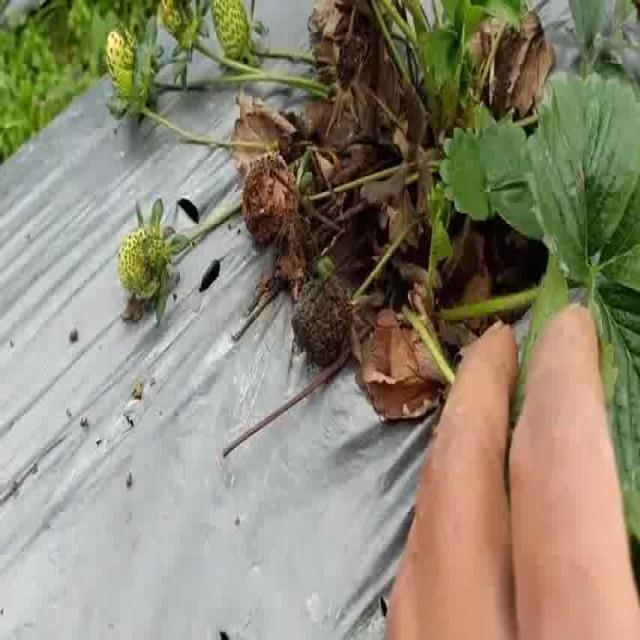Mancha negra Antracnosis: (289, 266, 356, 378), (238, 140, 304, 247)
